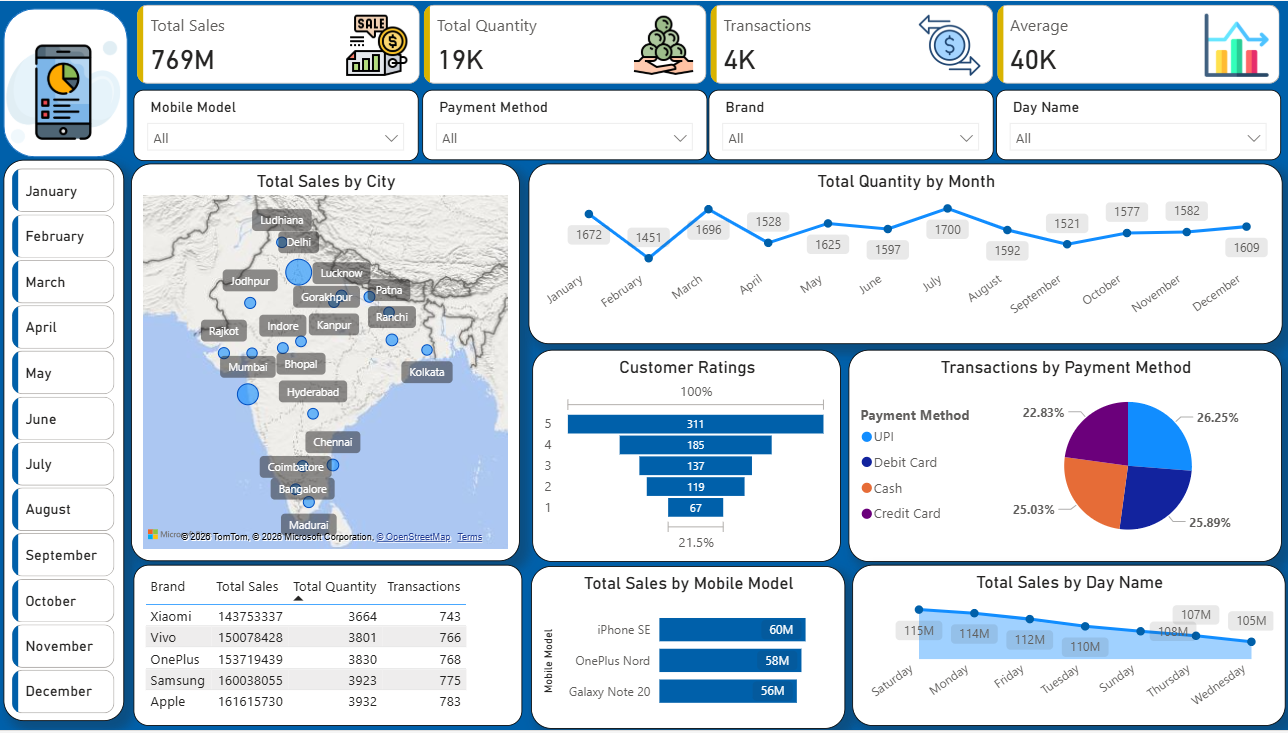

This screenshot's page, from the dashboard's own definition file:
{"tool":"powerbi","page":{"name":"Page 1","canvas":[1280,720],"ordinal":0},"visuals":[{"type":"shape","box":[6.9,156.4,119.4,554.4],"z":0},{"type":"advancedSlicerVisual","fields":{"Values":["Sales_Data.Date.Variation.Date Hierarchy.Month"]},"box":[11,160.5,111.1,548.9],"z":1000},{"type":"cardVisual","fields":{"Data":["Sales_Data.Total Sales","Sales_Data.Total Quantity","Sales_Data.Transactions","Sales_Data.Average"]},"box":[134.2,3.5,1139.3,83.3],"z":2000},{"type":"map","fields":{"Category":["Sales_Data.City"],"Size":["Sales_Data.Total Sales"]},"box":[132.9,160.8,384.1,393.1],"z":3000},{"type":"lineChart","fields":{"Y":["Sales_Data.Total Quantity"],"Category":["Sales_Data.Date.Variation.Date Hierarchy.Month","Sales_Data.Date.Variation.Date Hierarchy.Day"]},"box":[525.9,160.8,744.8,178.7],"z":4000},{"type":"clusteredBarChart","fields":{"Category":["Sales_Data.Mobile Model"],"Y":["Sales_Data.Total Sales"]},"box":[528.3,558.5,310.1,160.5],"z":5000},{"type":"pieChart","fields":{"Category":["Sales_Data.Payment Method"],"Y":["Sales_Data.Transactions"]},"box":[842.5,344.4,428.1,209.9],"z":6000},{"type":"funnel","title":"Customer Ratings","fields":{"Category":["Sales_Data.Customer Ratings"],"Y":["CountNonNull(Sales_Data.Customer Ratings)"]},"box":[529.7,344.4,304.6,209.9],"z":7000},{"type":"areaChart","fields":{"Category":["Sales_Data.Day Name"],"Y":["Sales_Data.Total Sales"]},"box":[845.3,557.1,428.1,159.2],"z":8000},{"type":"tableEx","fields":{"Values":["Sales_Data.Brand","Sales_Data.Total Sales","Sales_Data.Total Quantity","Sales_Data.Transactions"]},"box":[135.8,557.1,384.2,159.2],"z":9000},{"type":"slicer","fields":{"Values":["Sales_Data.Mobile Model"]},"box":[136.2,87.1,281.4,70.3],"z":10000},{"type":"slicer","fields":{"Values":["Sales_Data.Payment Method"]},"box":[421,87.1,281.4,69.2],"z":11000},{"type":"slicer","fields":{"Values":["Sales_Data.Brand"]},"box":[703.5,87.1,281.4,69.2],"z":12000},{"type":"slicer","fields":{"Values":["Sales_Data.Day Name"]},"box":[988.2,87.1,281.4,69.2],"z":13000},{"type":"shape","box":[6.9,6.9,122.6,146.9],"z":14000},{"type":"image","box":[3.5,16.2,126.1,148.1],"z":15000}]}

Visuals, with their boxes in screenshot pixels (x1, y1, x2, y2), scaled from the page's 1280x720 canvas onto the 1288x733 screenshot:
shape: select_region(7, 159, 127, 724)
advancedSlicerVisual - Sales_Data.Date.Variation.Date Hierarchy.Month: select_region(11, 163, 123, 722)
cardVisual - Sales_Data.Total Sales x Sales_Data.Total Quantity: select_region(135, 4, 1281, 88)
map - Sales_Data.City x Sales_Data.Total Sales: select_region(134, 164, 520, 564)
lineChart - Sales_Data.Total Quantity x Sales_Data.Date.Variation.Date Hierarchy.Month: select_region(529, 164, 1279, 346)
clusteredBarChart - Sales_Data.Mobile Model x Sales_Data.Total Sales: select_region(532, 569, 844, 732)
pieChart - Sales_Data.Payment Method x Sales_Data.Transactions: select_region(848, 351, 1279, 564)
"Customer Ratings" funnel: select_region(533, 351, 840, 564)
areaChart - Sales_Data.Day Name x Sales_Data.Total Sales: select_region(851, 567, 1281, 729)
tableEx - Sales_Data.Brand x Sales_Data.Total Sales: select_region(137, 567, 523, 729)
slicer - Sales_Data.Mobile Model: select_region(137, 89, 420, 160)
slicer - Sales_Data.Payment Method: select_region(424, 89, 707, 159)
slicer - Sales_Data.Brand: select_region(708, 89, 991, 159)
slicer - Sales_Data.Day Name: select_region(994, 89, 1278, 159)
shape: select_region(7, 7, 130, 157)
image: select_region(4, 16, 130, 167)
